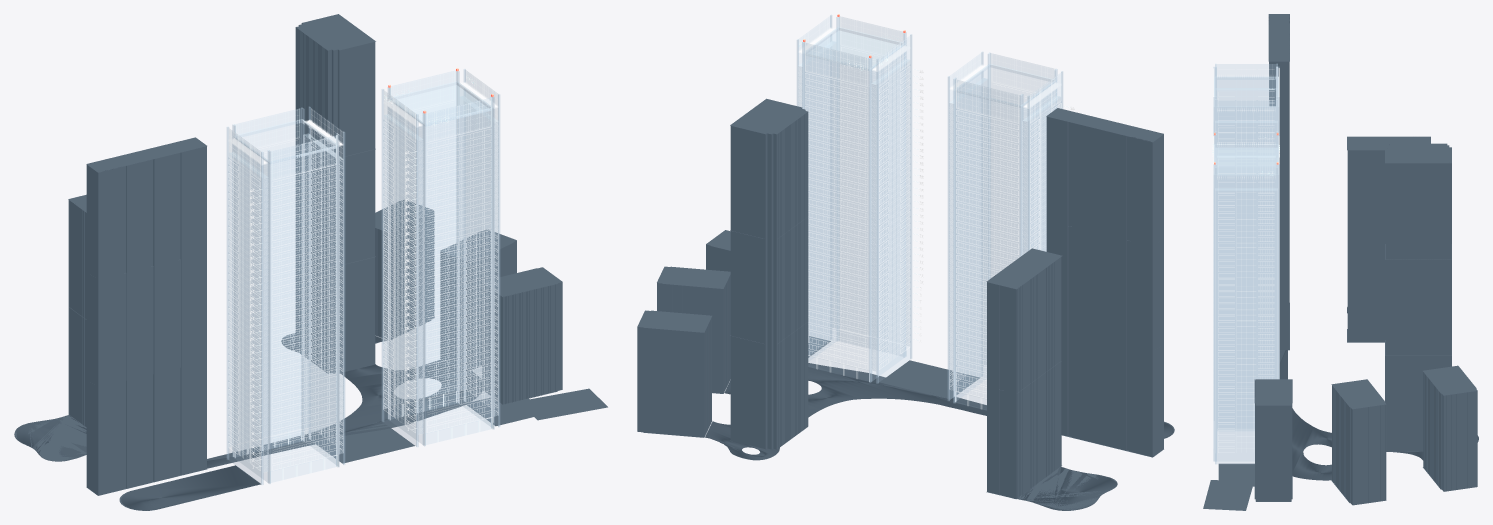
Rendered from building-transparent.glb.
3 views of the same model, side by side, from view 1: azimuth 30°, elevation 25°; view 2: azimuth 150°, elevation 25°; view 3: azimuth 270°, elevation 25° (orthographic). The views are drawn at different scales.
Visible parts, largest first — view 1: 透明副建筑, 墙面.002 (×2), 玻璃.004 (×2), 窗框.004 (×2), 玻璃2.001 (×2), 顶面.001; view 2: 透明副建筑, 墙面.002 (×2), 玻璃.004 (×2), 窗框.004 (×2), 玻璃2.001 (×2), 顶面.001; view 3: 透明副建筑, 墙面.002 (×2), 玻璃.004 (×2), 顶面.001, 窗框.004.
Part boxes in pixels (x1,y1,x2,y2): 透明副建筑: [14, 14, 607, 510]; 墙面.002 (×2): [227, 69, 499, 484]; 玻璃.004 (×2): [228, 70, 498, 469]; 窗框.004 (×2): [228, 71, 497, 479]; 玻璃2.001 (×2): [229, 117, 498, 471]; 顶面.001: [395, 85, 487, 123]; 透明副建筑: [637, 98, 1174, 510]; 墙面.002 (×2): [797, 15, 1062, 409]; 玻璃.004 (×2): [798, 16, 1061, 397]; 窗框.004 (×2): [798, 16, 1061, 409]; 玻璃2.001 (×2): [798, 61, 1060, 389]; 顶面.001: [808, 31, 898, 67]; 透明副建筑: [1203, 14, 1478, 510]; 墙面.002 (×2): [1213, 64, 1279, 464]; 玻璃.004 (×2): [1217, 64, 1275, 453]; 顶面.001: [1215, 148, 1277, 173]; 窗框.004: [1213, 132, 1279, 452].
Size of the model in its own units: 334 by 221 by 185.
Materials: 7 (1 with a texture image).
